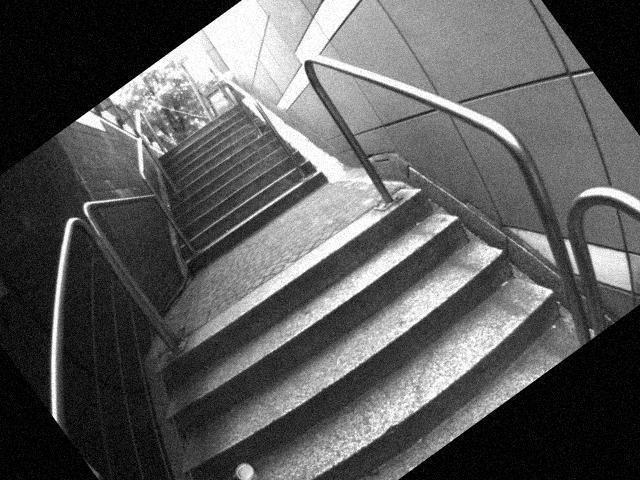Escaleras: (105, 59, 640, 480), (132, 78, 334, 268)
